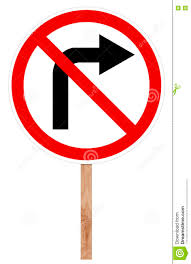No_right_turn: (10, 9, 162, 161)
